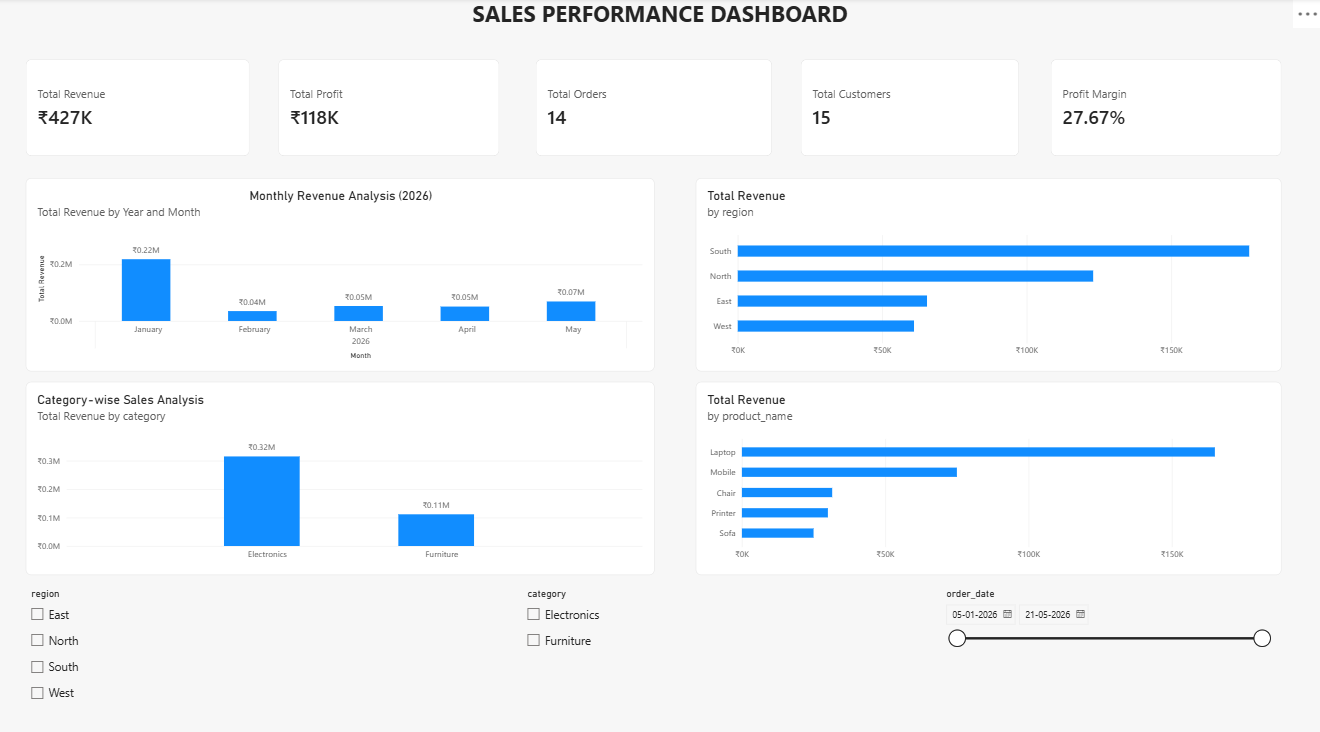

The page's visual inventory and layout, read from the dashboard file:
{"tool":"powerbi","page":{"name":"Page 1","canvas":[1920,1080],"ordinal":0},"visuals":[{"type":"cardVisual","fields":{"Data":["public sales.Total Customers"]},"box":[1164,88,316,140],"z":0},{"type":"cardVisual","fields":{"Data":["public sales.Total Revenue"]},"box":[42,88,324,140],"z":1},{"type":"cardVisual","fields":{"Data":["public sales.Total Profit"]},"box":[408,88,320,140],"z":2},{"type":"cardVisual","fields":{"Data":["public sales.Total Orders"]},"box":[780,88,342,140],"z":3},{"type":"cardVisual","fields":{"Data":["public sales.Profit Margin"]},"box":[1526,88,334,140],"z":4},{"type":"clusteredColumnChart","title":"Monthly Revenue Analysis (2026)","fields":{"Category":["public orders.order_date.Variation.Date Hierarchy.Year","public orders.order_date.Variation.Date Hierarchy.Month"],"Y":["public sales.Total Revenue"]},"box":[42,260,910,280],"z":5},{"type":"clusteredBarChart","fields":{"Category":["public customers.region"],"Y":["public sales.Total Revenue"]},"box":[1012,260,848,280],"z":6},{"type":"clusteredColumnChart","title":"Category-wise Sales Analysis","fields":{"Category":["public products.category"],"Y":["public sales.Total Revenue"]},"box":[42,556,910,280],"z":7},{"type":"clusteredBarChart","fields":{"Category":["public products.product_name"],"Y":["public sales.Total Revenue"]},"box":[1012,556,848,280],"z":8},{"type":"slicer","fields":{"Values":["public customers.region"]},"box":[42,854,600,192],"z":9},{"type":"slicer","fields":{"Values":["public products.category"]},"box":[760,854,464,192],"z":10},{"type":"slicer","fields":{"Values":["public orders.order_date"]},"box":[1366,854,494,192],"z":11},{"type":"textbox","box":[0,0,1920,1080],"z":12}]}

Visuals, with their boxes in screenshot pixels (x1, y1, x2, y2), scaled from the page's 1920x1080 canvas onto the 1320x732 screenshot:
cardVisual - public sales.Total Customers: region(800, 60, 1018, 155)
cardVisual - public sales.Total Revenue: region(29, 60, 252, 155)
cardVisual - public sales.Total Profit: region(280, 60, 500, 155)
cardVisual - public sales.Total Orders: region(536, 60, 771, 155)
cardVisual - public sales.Profit Margin: region(1049, 60, 1279, 155)
"Monthly Revenue Analysis (2026)" clusteredColumnChart: region(29, 176, 654, 366)
clusteredBarChart - public customers.region x public sales.Total Revenue: region(696, 176, 1279, 366)
"Category-wise Sales Analysis" clusteredColumnChart: region(29, 377, 654, 567)
clusteredBarChart - public products.product_name x public sales.Total Revenue: region(696, 377, 1279, 567)
slicer - public customers.region: region(29, 579, 441, 709)
slicer - public products.category: region(522, 579, 842, 709)
slicer - public orders.order_date: region(939, 579, 1279, 709)
textbox: region(0, 0, 1319, 731)
